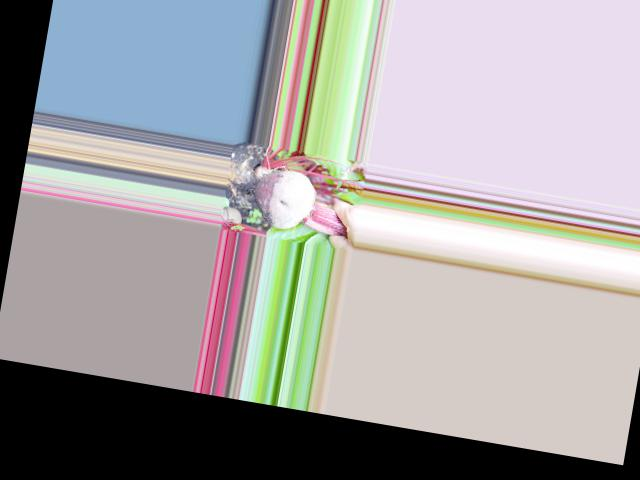beet: (220, 159, 356, 239)
